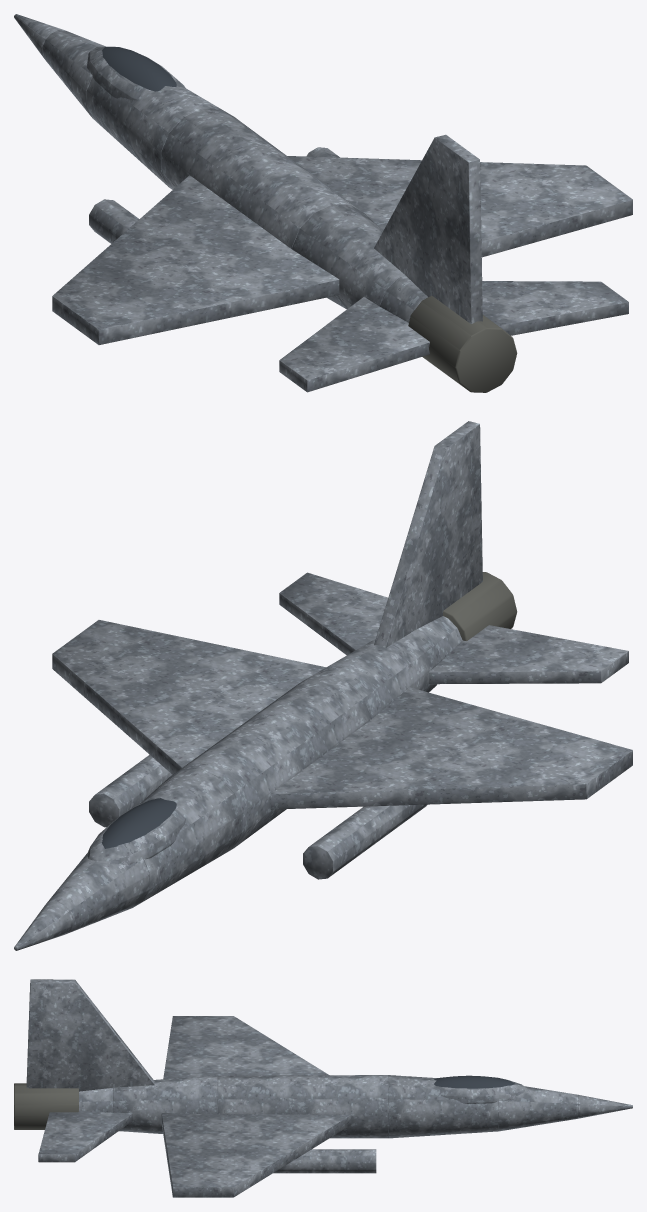
File: air_e4_us_multirole_LOD0.glb
3 views of the same model, one above another, from view 1: azimuth 30°, elevation 25°; view 2: azimuth 150°, elevation 25°; view 3: azimuth 270°, elevation 25° (orthographic). The views are drawn at different scales.
Visible parts, largest first — view 1: air_e4_us_multirole_LOD0_body, air_e4_us_multirole_LOD0_gun, air_e4_us_multirole_LOD0_glass; view 2: air_e4_us_multirole_LOD0_body, air_e4_us_multirole_LOD0_gun, air_e4_us_multirole_LOD0_glass; view 3: air_e4_us_multirole_LOD0_body, air_e4_us_multirole_LOD0_gun, air_e4_us_multirole_LOD0_glass.
Part boxes in pixels (x1,y1,x2,y2): air_e4_us_multirole_LOD0_body: [14, 14, 632, 392]; air_e4_us_multirole_LOD0_gun: [408, 295, 517, 392]; air_e4_us_multirole_LOD0_glass: [102, 47, 176, 91]; air_e4_us_multirole_LOD0_body: [14, 421, 632, 950]; air_e4_us_multirole_LOD0_gun: [443, 572, 517, 640]; air_e4_us_multirole_LOD0_glass: [101, 798, 176, 848]; air_e4_us_multirole_LOD0_body: [26, 979, 632, 1197]; air_e4_us_multirole_LOD0_gun: [14, 1083, 78, 1129]; air_e4_us_multirole_LOD0_glass: [434, 1075, 514, 1088].
Bounding box in the file's own units: 9.96 × 4.25 × 15.2.
3 materials, 1 textured.
